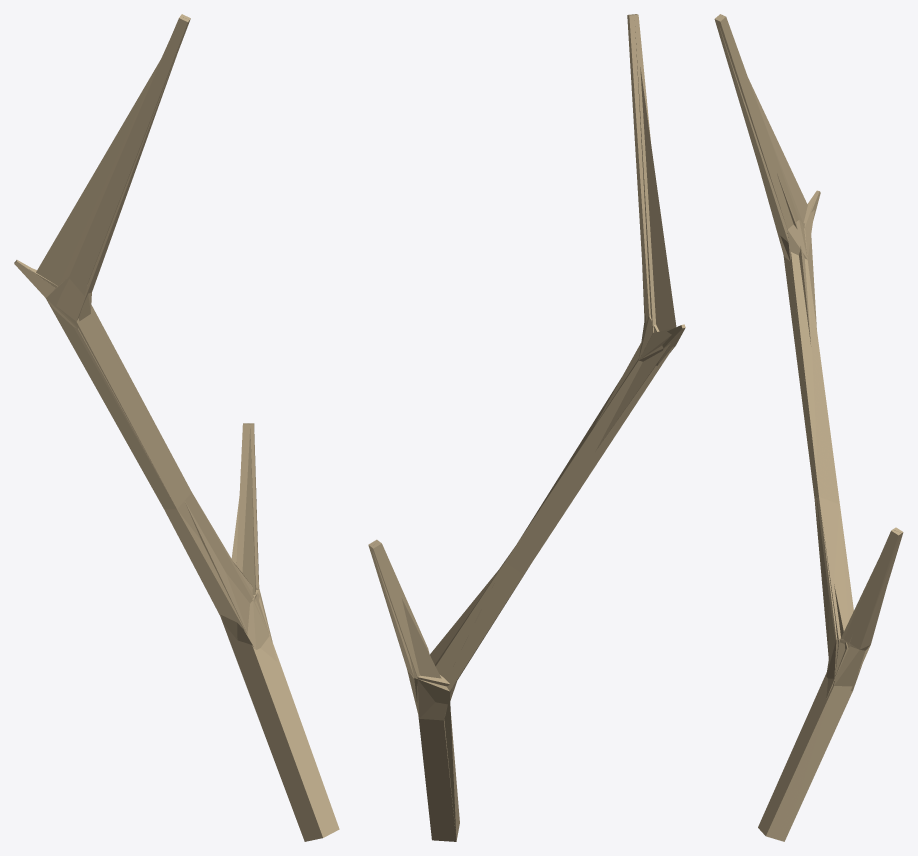
The model's file is stick_01_break_LOD.fbx.
The picture shows the model from 3 angles, left to right: view 1: azimuth 30°, elevation 25°; view 2: azimuth 150°, elevation 25°; view 3: azimuth 270°, elevation 25°; orthographic projection. The views are drawn at different scales.
Parts seen in each view (by area): view 1: stick_01_1, stick_01, stick_01_2; view 2: stick_01, stick_01_1, stick_01_2; view 3: stick_01_1, stick_01, stick_01_2.
Boxes of the visible parts, bbox=[...] form: stick_01_1: bbox=[26, 17, 339, 841]; stick_01: bbox=[14, 14, 272, 649]; stick_01_2: bbox=[36, 60, 276, 661]; stick_01: bbox=[368, 14, 685, 841]; stick_01_1: bbox=[372, 19, 675, 841]; stick_01_2: bbox=[401, 67, 676, 678]; stick_01_1: bbox=[719, 15, 901, 840]; stick_01: bbox=[714, 14, 903, 841]; stick_01_2: bbox=[748, 79, 851, 698].
Bounding box in the file's own units: 18.43 × 53.02 × 12.06.
